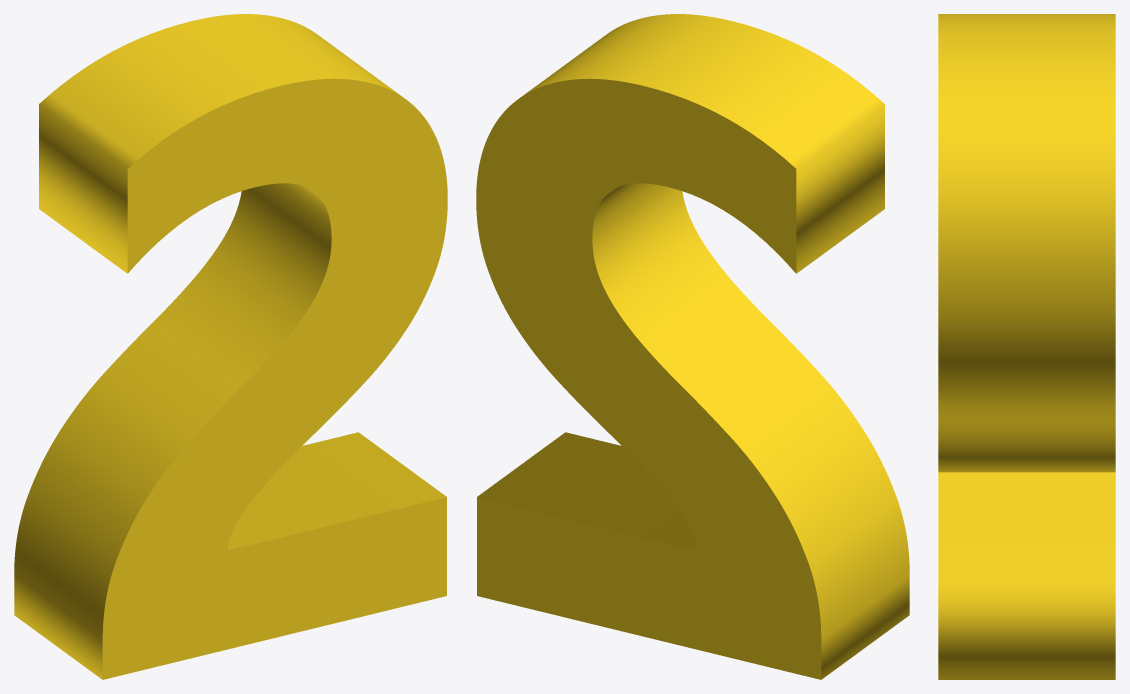
The model's file is score2.glb.
3 views of the same model, side by side, from view 1: azimuth 30°, elevation 25°; view 2: azimuth 150°, elevation 25°; view 3: azimuth 270°, elevation 25° (orthographic).
Visible parts, largest first — view 1: Text-col; view 2: Text-col; view 3: Text-col.
Part boxes in pixels (box(x1,y1,x2,y2)): Text-col: box(14, 14, 447, 679); Text-col: box(476, 14, 909, 679); Text-col: box(938, 14, 1115, 679).
Bounding box in the file's own units: 0.27 × 0.4117 × 0.12.
